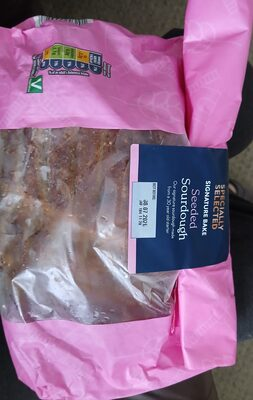Seeded Sourdough Bread: (13, 20, 240, 380)
